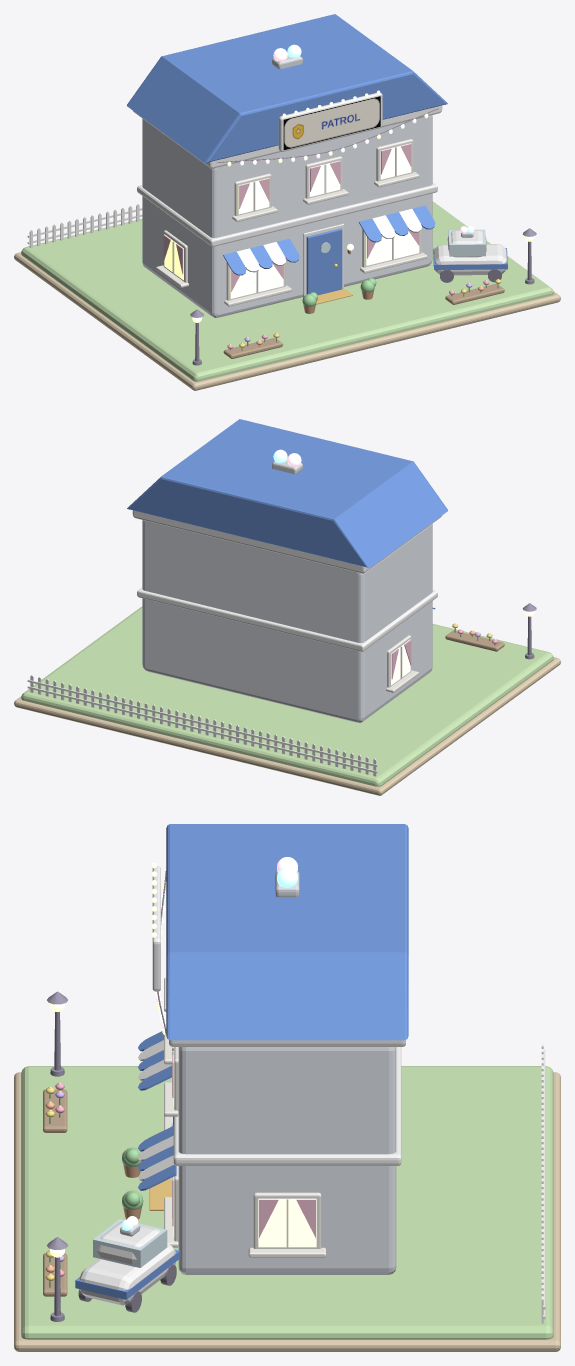
The model's file is building_police_L09.glb.
3 renders of one model, top to bottom at view 1: azimuth 30°, elevation 25°; view 2: azimuth 150°, elevation 25°; view 3: azimuth 270°, elevation 25°, orthographic. The views are drawn at different scales.
Visible parts, largest first — view 1: police_L9, object 9, object 2, object 3, object 6, object 8, object 7; view 2: police_L9; view 3: police_L9, object 5.
Part boxes in pixels (left/top/right/bottom): police_L9: left=14, top=14, right=560, bottom=390; object 9: left=283, top=96, right=380, bottom=149; object 2: left=230, top=264, right=283, bottom=298; object 3: left=366, top=231, right=419, bottom=265; object 6: left=238, top=178, right=269, bottom=214; object 8: left=380, top=143, right=411, bottom=179; object 7: left=309, top=160, right=340, bottom=196; police_L9: left=14, top=419, right=560, bottom=795; police_L9: left=14, top=824, right=560, bottom=1351; object 5: left=258, top=1198, right=316, bottom=1247.
Size of the model in its own units: 26.61 by 16.17 by 22.6.
36 materials, 1 textured.
